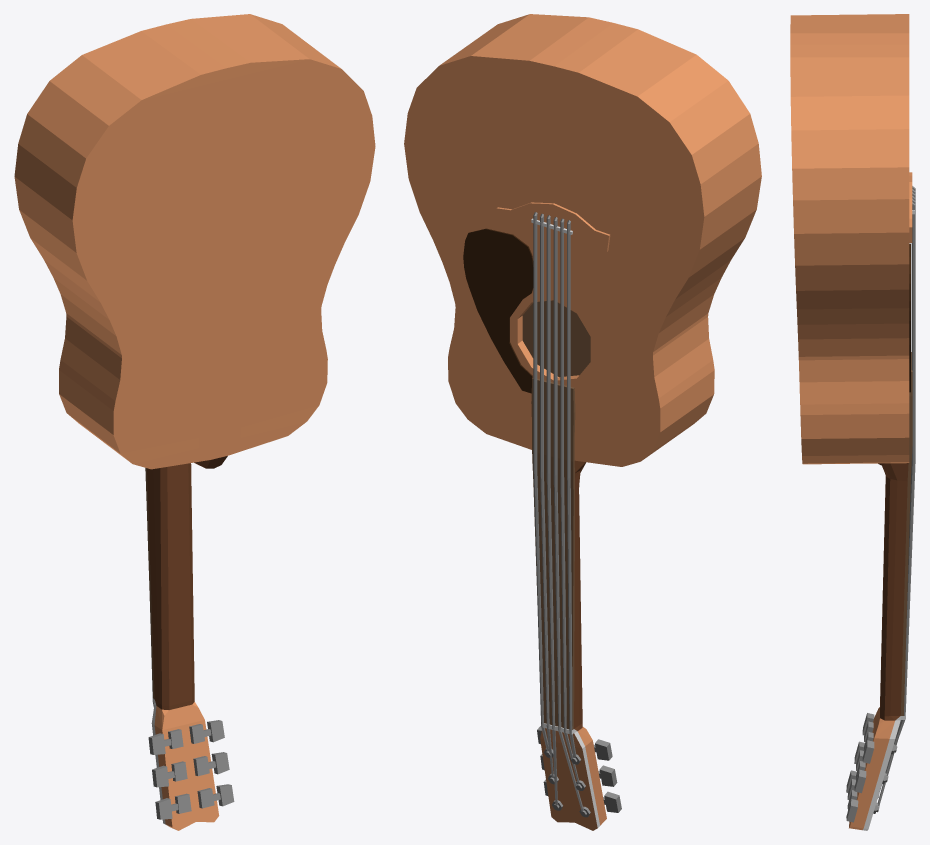
Rendered from Low-Poly_Acoustic_Guitar.glb.
3 renders of one model, left to right at view 1: azimuth 30°, elevation 25°; view 2: azimuth 150°, elevation 25°; view 3: azimuth 270°, elevation 25°, orthographic.
Visible parts, largest first — view 1: unnamed (×3); view 2: unnamed (×9); view 3: unnamed (×7).
Boxes of the visible parts, bbox=[...] form: unnamed (×3): bbox=[14, 14, 375, 830]; unnamed (×9): bbox=[404, 14, 761, 830]; unnamed (×7): bbox=[790, 14, 915, 830].
Size of the model in its own units: 2.16 by 5.34 by 0.7799.
